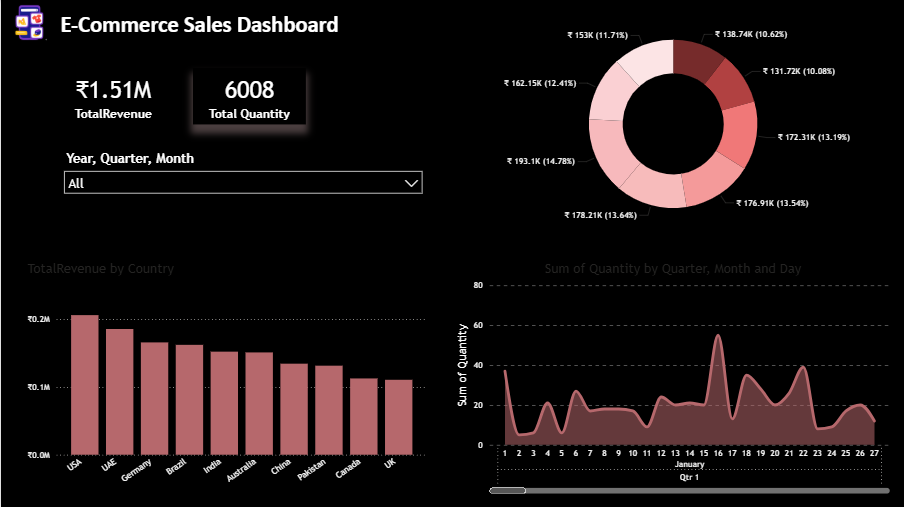

This screenshot's page, from the dashboard's own definition file:
{"tool":"powerbi","page":{"name":"Page 1","canvas":[1280,720],"ordinal":0},"visuals":[{"type":"slicer","fields":{"Values":["global_ecommerce_sales.Order_Date.Variation.Date Hierarchy.Year","global_ecommerce_sales.Order_Date.Variation.Date Hierarchy.Quarter","global_ecommerce_sales.Order_Date.Variation.Date Hierarchy.Month"]},"box":[80,208,528,128],"z":0},{"type":"clusteredColumnChart","fields":{"Category":["global_ecommerce_sales.Country"],"Y":["global_ecommerce_sales.TotalRevenue"]},"box":[32,368,576,336],"z":1000},{"type":"donutChart","fields":{"Series":["global_ecommerce_sales.Category"],"Y":["Sum(global_ecommerce_sales.Total_Amount)"]},"box":[640,16,624,320],"z":2000},{"type":"stackedAreaChart","fields":{"Category":["global_ecommerce_sales.Order_Date.Variation.Date Hierarchy.Quarter","global_ecommerce_sales.Order_Date.Variation.Date Hierarchy.Month","global_ecommerce_sales.Order_Date.Variation.Date Hierarchy.Day"],"Y":["Sum(global_ecommerce_sales.Quantity)"]},"box":[640,368,624,336],"z":3000},{"type":"textbox","title":"E-Commerce Sales Dashboard","box":[80,16,528,48],"z":6000},{"type":"card","fields":{"Values":["global_ecommerce_sales.Total Quantity"]},"box":[272,96,160,80],"z":6001},{"type":"card","fields":{"Values":["global_ecommerce_sales.TotalRevenue"]},"box":[80,96,160,80],"z":6002},{"type":"image","box":[0,0,80,64],"z":6003}]}

Visuals, with their boxes in screenshot pixels (x1, y1, x2, y2), scaled from the page's 1280x720 canvas onto the 904x507 screenshot:
slicer - global_ecommerce_sales.Order_Date.Variation.Date Hierarchy.Year x global_ecommerce_sales.Order_Date.Variation.Date Hierarchy.Quarter: bbox=[56, 146, 429, 237]
clusteredColumnChart - global_ecommerce_sales.Country x global_ecommerce_sales.TotalRevenue: bbox=[23, 259, 429, 496]
donutChart - global_ecommerce_sales.Category x Sum(global_ecommerce_sales.Total_Amount): bbox=[452, 11, 893, 237]
stackedAreaChart - global_ecommerce_sales.Order_Date.Variation.Date Hierarchy.Quarter x global_ecommerce_sales.Order_Date.Variation.Date Hierarchy.Month: bbox=[452, 259, 893, 496]
"E-Commerce Sales Dashboard" textbox: bbox=[56, 11, 429, 45]
card - global_ecommerce_sales.Total Quantity: bbox=[192, 68, 305, 124]
card - global_ecommerce_sales.TotalRevenue: bbox=[56, 68, 170, 124]
image: bbox=[0, 0, 56, 45]
